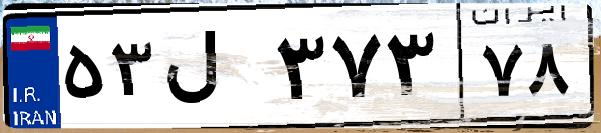3: (270, 28, 330, 110), (385, 28, 445, 110), (110, 28, 158, 98)
5: (57, 26, 110, 100)
7: (330, 28, 385, 110), (475, 38, 525, 113)
8: (525, 38, 570, 115)
ل: (158, 20, 270, 120)
